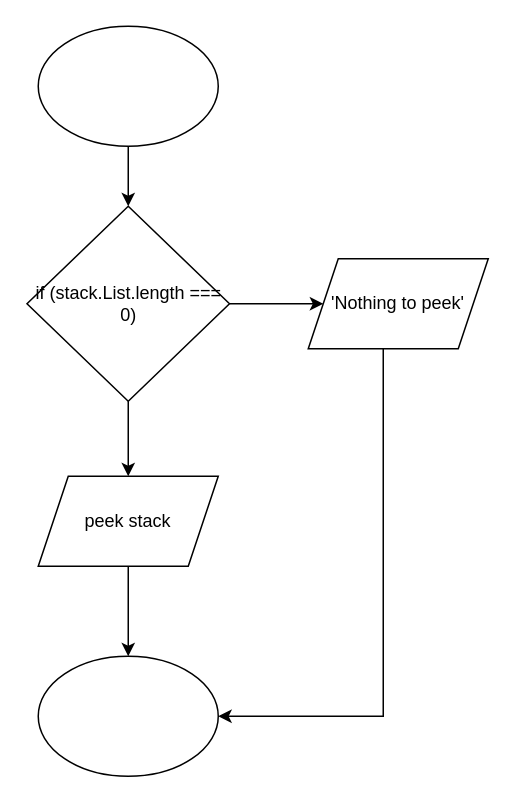
The diagram is 515 pixels wide and 803 high, and some of its shapes have lost their labels. Each missing label, with the box of its shape:
Start: (37, 25, 218, 146)
stop: (37, 655, 218, 776)
